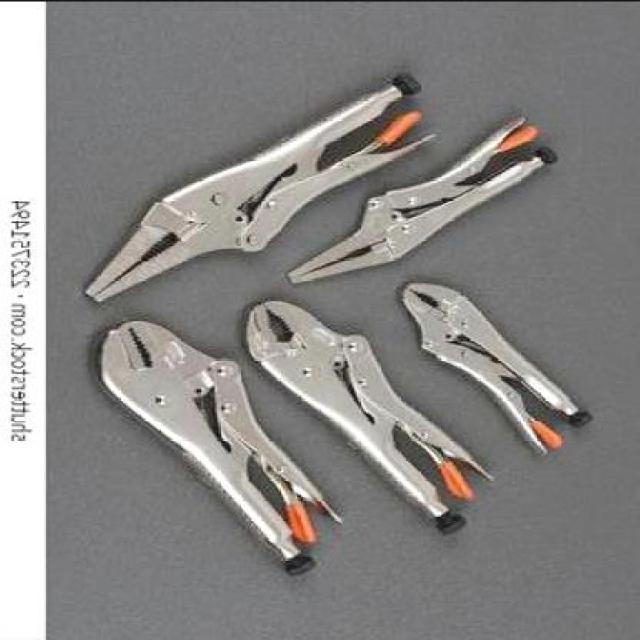pliers: (93, 318, 354, 588)
